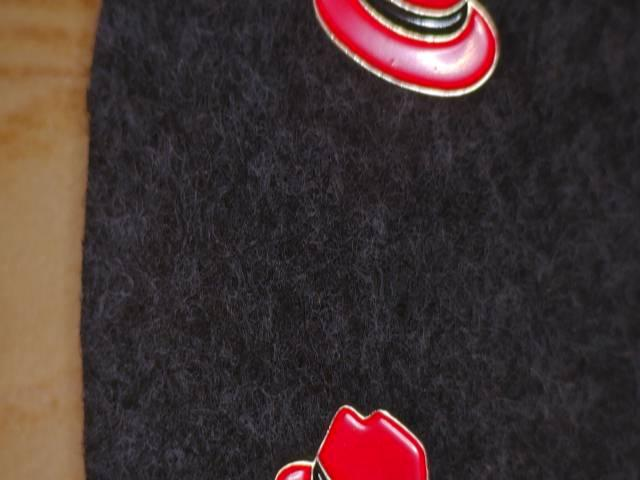Red-Hat: (294, 0, 517, 122), (256, 389, 453, 480)
